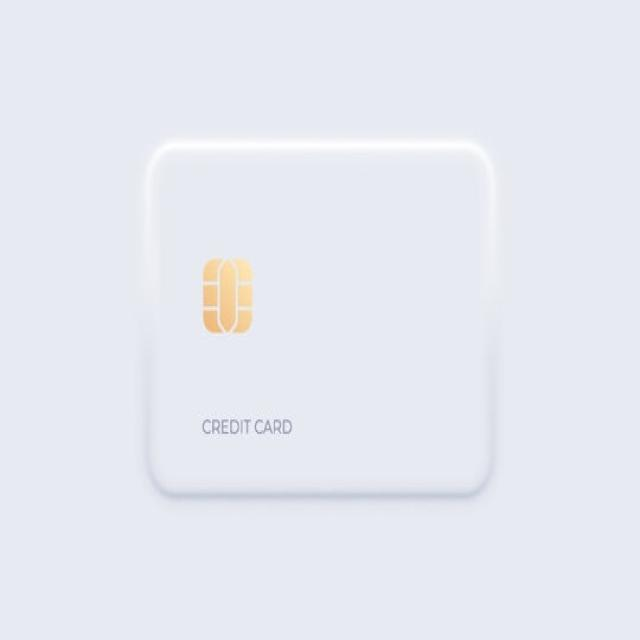payment_card: (142, 137, 495, 499)
